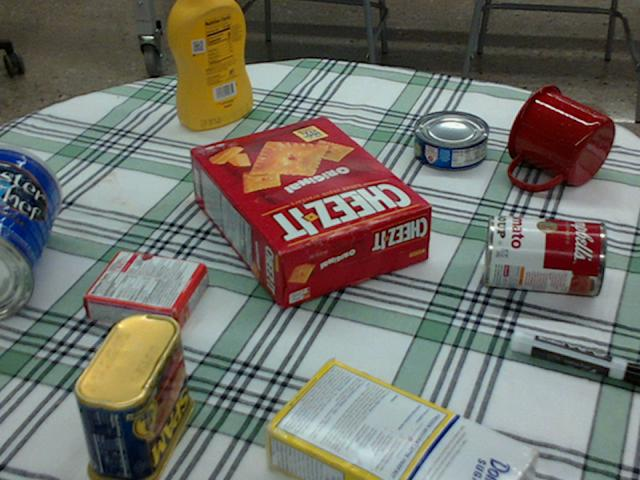cracker_box: (189, 115, 428, 307)
gelatin_box: (84, 248, 207, 334)
large_marker: (512, 328, 639, 388)
master_chef_can: (0, 144, 58, 319)
mug: (507, 85, 613, 191)
mustard_bottle: (168, 0, 252, 129)
potted_meat_can: (73, 311, 192, 479)
sugar_box: (258, 362, 536, 479)
tomato_soup_can: (483, 213, 606, 296)
tuna_fish_can: (414, 111, 489, 170)
